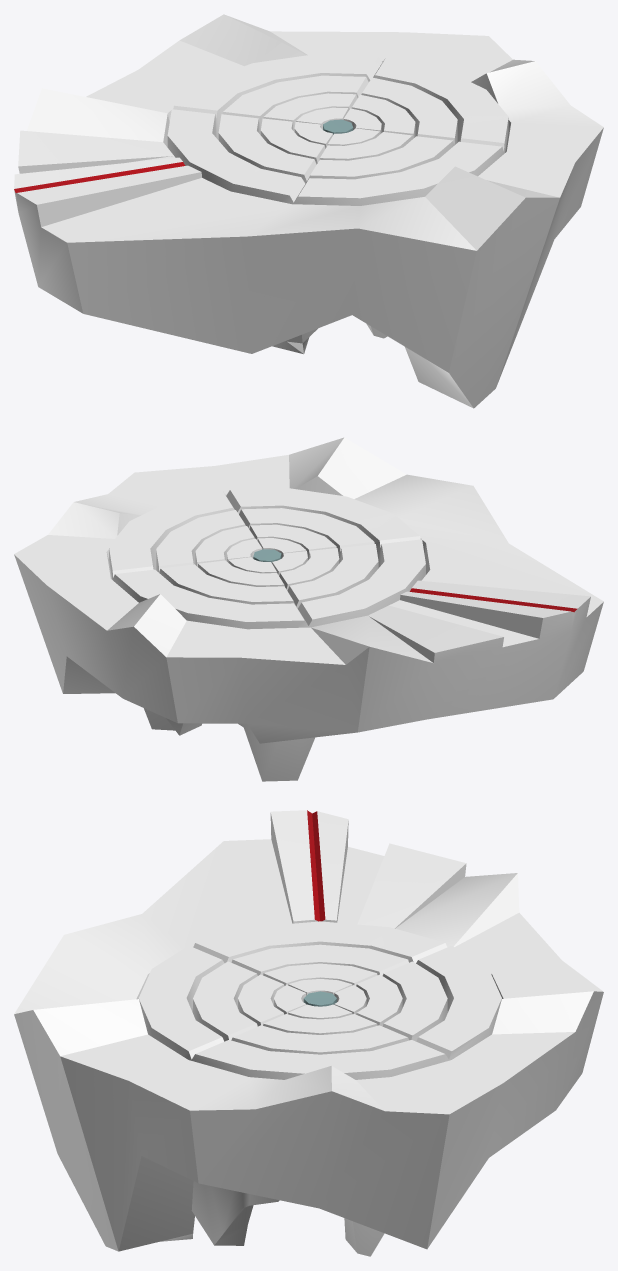
File: keyB.FBX
The picture shows the model from 3 angles, top to bottom: view 1: azimuth 30°, elevation 25°; view 2: azimuth 150°, elevation 25°; view 3: azimuth 270°, elevation 25°; orthographic projection. The views are drawn at different scales.
Parts seen in each view (by area): view 1: keyA001, KeyB001, KeyB002, KeyB003, KeyB004; view 2: keyA001, KeyB001, KeyB002, KeyB003, KeyB004; view 3: keyA001, KeyB001, KeyB002, KeyB003, KeyB004.
Boxes of the visible parts, <box> form: keyA001: <box>14,14,603,408</box>; KeyB001: <box>167,54,508,354</box>; KeyB002: <box>218,75,457,183</box>; KeyB003: <box>260,93,415,164</box>; KeyB004: <box>294,107,381,148</box>; keyA001: <box>14,437,603,743</box>; KeyB001: <box>109,488,425,781</box>; KeyB002: <box>156,508,378,608</box>; KeyB003: <box>195,524,339,590</box>; KeyB004: <box>227,538,307,575</box>; keyA001: <box>14,810,603,1251</box>; KeyB001: <box>138,921,501,1256</box>; KeyB002: <box>192,944,447,1054</box>; KeyB003: <box>238,963,402,1034</box>; KeyB004: <box>273,979,366,1019</box>.
Size of the model in its own units: 19.32 by 8.09 by 17.27.
